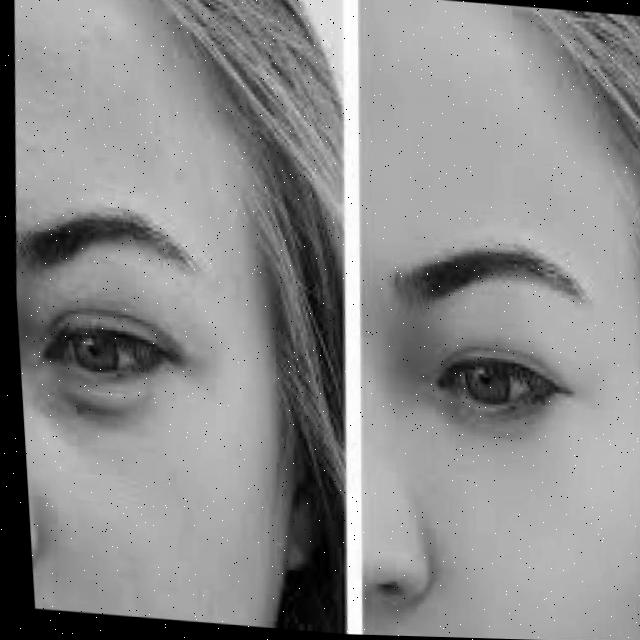puffy_eyes: (32, 371, 170, 444)
